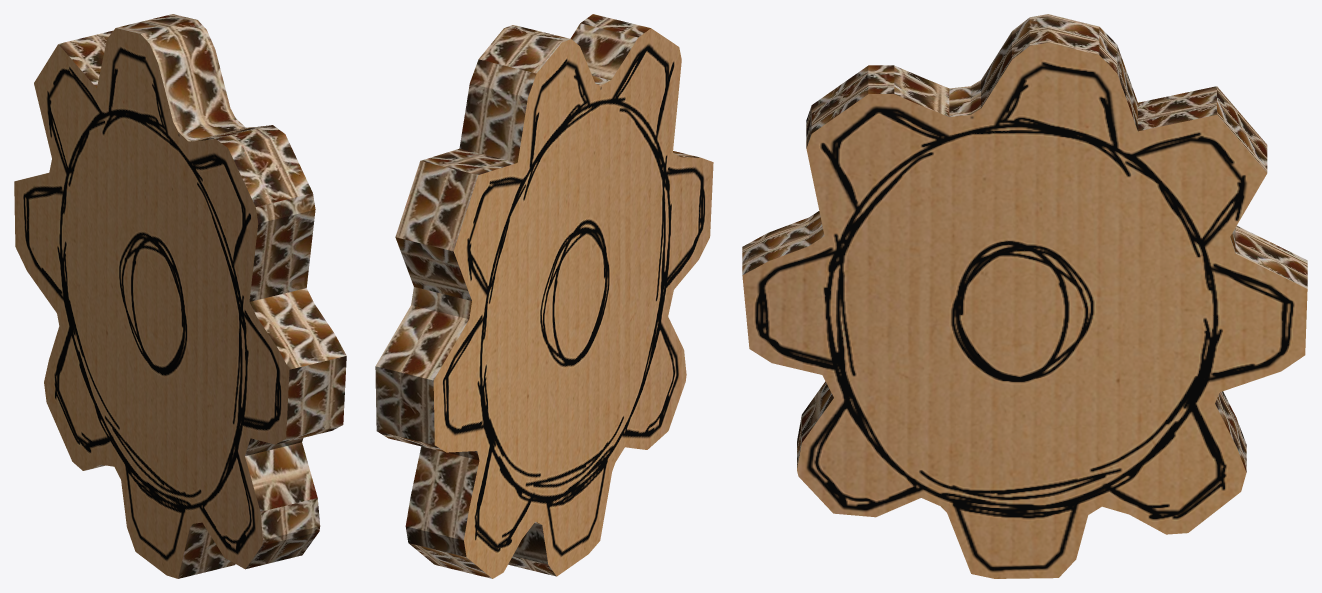
File: Gear_1.fbx
3 renders of one model, left to right at view 1: azimuth 30°, elevation 25°; view 2: azimuth 150°, elevation 25°; view 3: azimuth 270°, elevation 25°, orthographic. The views are drawn at different scales.
Parts seen in each view (by area): view 1: Plane.002; view 2: Plane.002; view 3: Plane.002.
Boxes of the visible parts, x1=… form: Plane.002: x1=14, y1=14, x2=346, y2=578; Plane.002: x1=375, y1=14, x2=713, y2=578; Plane.002: x1=742, y1=14, x2=1307, y2=578.
Size of the model in its own units: 5.55 by 48.38 by 46.21.
